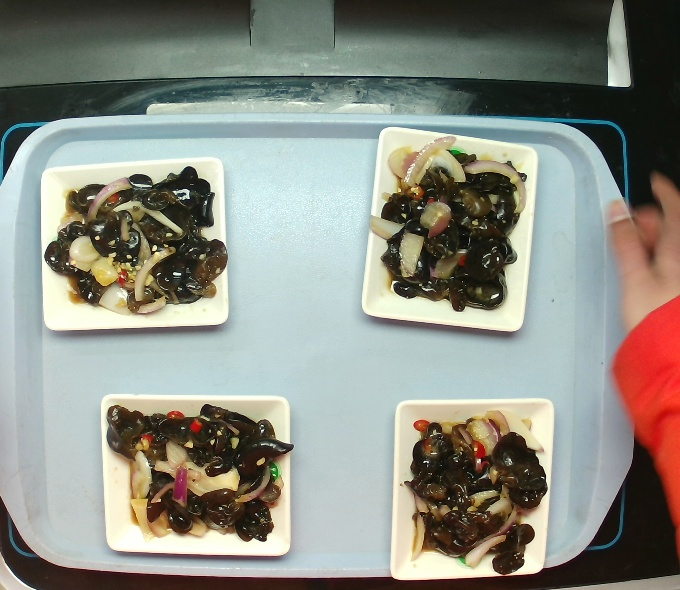wcq-LiangBanMuEr: (86, 389, 315, 543), (39, 164, 234, 315), (377, 146, 531, 311), (399, 424, 549, 558)
